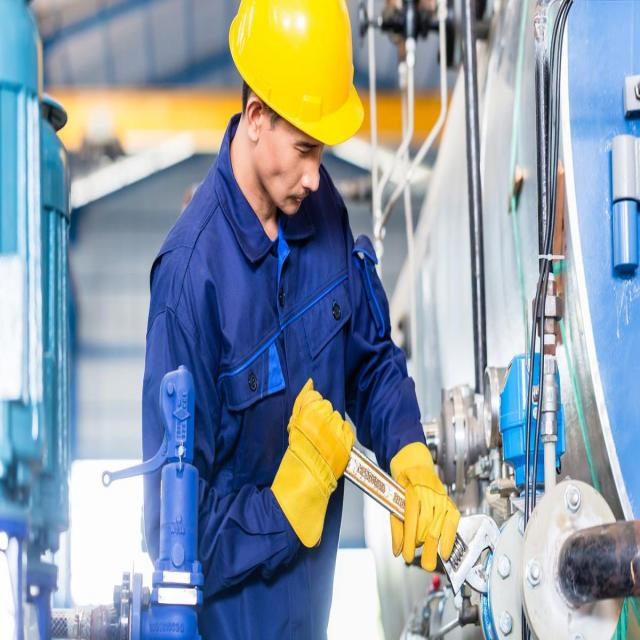Safety-Helmet: (226, 1, 367, 149)
